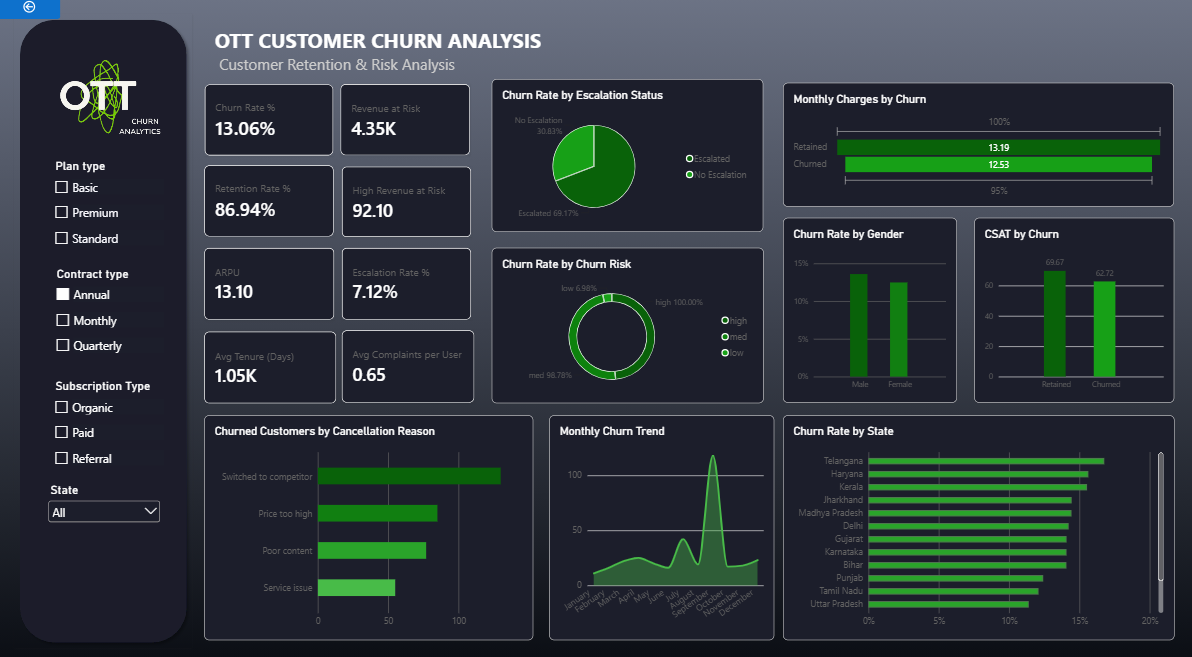

Layout of this report page (visuals, bound fields, positions):
{"tool":"powerbi","page":{"name":"Page 1","canvas":[1920,1080],"ordinal":0},"visuals":[{"type":"shape","box":[26.7,31.7,285,1015],"z":0},{"type":"cardVisual","fields":{"Data":["db_customer.Churn Rate %"]},"box":[330,144,207.5,115],"z":2000},{"type":"cardVisual","fields":{"Data":["db_customer.Avg Tenure (Days)"]},"box":[330,540,211.4,115.7],"z":3000},{"type":"cardVisual","fields":{"Data":["db_customer.ARPU"]},"box":[330,406,208.6,115.7],"z":4000},{"type":"cardVisual","fields":{"Data":["db_customer.Escalation Rate %"]},"box":[550,405.6,207.8,115.6],"z":5000},{"type":"cardVisual","fields":{"Data":["db_customer.Revenue at Risk"]},"box":[548.9,144.4,207.8,114.4],"z":6000},{"type":"cardVisual","title":"High Risk Revenue","fields":{"Data":["db_customer.High Risk Revenue at Risk"]},"box":[550,275.6,207.8,113.3],"z":7000},{"type":"cardVisual","fields":{"Data":["db_customer.Retention Rate %"]},"box":[330,274,207.8,114.4],"z":8000},{"type":"cardVisual","fields":{"Data":["db_customer.Avg Complaints per User"]},"box":[550,538.9,212.2,116.7],"z":9000},{"type":"clusteredBarChart","title":"Churn Rate by State","fields":{"Category":["db_customer.state"],"Y":["db_customer.Churn Rate %"]},"box":[1256,674,626,360],"z":12000},{"type":"clusteredBarChart","title":"Churned Customers by Cancellation Reason","fields":{"Category":["db_subscription.cancellation_reason"],"Y":["Sum(db_subscription.Churn Flag)"]},"box":[330,674,526,360],"z":13000},{"type":"clusteredColumnChart","title":"Churn Rate by Gender","fields":{"Category":["db_customer.gender"],"Y":["db_customer.Churn Rate %"]},"box":[1256,358,278,296],"z":14000},{"type":"funnel","title":"Monthly Charges by Churn","fields":{"Category":["db_subscription.Churn Status"],"Y":["Avg(db_subscription.monthly_charges)"]},"box":[1256.5,142.2,625.5,198.8],"z":15000},{"type":"clusteredColumnChart","title":"CSAT by Churn","fields":{"Category":["db_subscription.Churn Status"],"Y":["Avg(db_support.csat_score)"]},"box":[1562,358,320,296],"z":16000},{"type":"pieChart","title":"Churn Rate by Escalation Status","fields":{"Category":["db_support.Escalation Status"],"Y":["Avg(db_support.Customer Churn Flag)"]},"box":[790,136.7,434.4,244.4],"z":17000},{"type":"actionButton","box":[0,0,100,40],"z":18000},{"type":"donutChart","title":"Churn Rate by Churn Risk","fields":{"Category":["db_subscription.Churn Risk"],"Y":["db_customer.Churn Rate %"]},"box":[790,405.6,435.6,248.9],"z":19000},{"type":"areaChart","title":"Monthly Churn Trend","fields":{"Category":["db_subscription.cancellation_date.Variation.Date Hierarchy.Month"],"Y":["Sum(db_subscription.Churn Flag)"]},"box":[882,674,360,360],"z":20000},{"type":"textbox","box":[346,52,524,80],"z":21000},{"type":"textbox","box":[353.3,95,436.7,93.3],"z":22000},{"type":"slicer","fields":{"Values":["db_subscription.plan_type"]},"box":[83.3,263.3,181.7,148.3],"z":23000},{"type":"slicer","fields":{"Values":["db_subscription.contract_type"]},"box":[85,436.7,180,150],"z":24000},{"type":"slicer","fields":{"Values":["db_customer.state"]},"box":[76.7,781.7,188.3,150],"z":25000},{"type":"slicer","fields":{"Values":["db_subscription.Subscription Type Clean"]},"box":[83.3,615,181.7,150],"z":26000},{"type":"image","box":[16.7,20,295,288.3],"z":27000}]}

Visuals, with their boxes in screenshot pixels (x1, y1, x2, y2):
shape: box=[17, 14, 194, 646]
cardVisual - db_customer.Churn Rate %: box=[206, 84, 335, 155]
cardVisual - db_customer.Avg Tenure (Days): box=[206, 330, 337, 402]
cardVisual - db_customer.ARPU: box=[206, 247, 336, 319]
cardVisual - db_customer.Escalation Rate %: box=[343, 246, 472, 318]
cardVisual - db_customer.Revenue at Risk: box=[342, 84, 471, 155]
"High Risk Revenue" cardVisual: box=[343, 165, 472, 236]
cardVisual - db_customer.Retention Rate %: box=[206, 164, 335, 236]
cardVisual - db_customer.Avg Complaints per User: box=[343, 330, 475, 402]
"Churn Rate by State" clusteredBarChart: box=[782, 414, 1172, 638]
"Churned Customers by Cancellation Reason" clusteredBarChart: box=[206, 414, 533, 638]
"Churn Rate by Gender" clusteredColumnChart: box=[782, 217, 956, 401]
"Monthly Charges by Churn" funnel: box=[783, 82, 1172, 206]
"CSAT by Churn" clusteredColumnChart: box=[973, 217, 1172, 401]
"Churn Rate by Escalation Status" pieChart: box=[492, 79, 763, 231]
actionButton: box=[0, 0, 62, 19]
"Churn Rate by Churn Risk" donutChart: box=[492, 246, 764, 402]
"Monthly Churn Trend" areaChart: box=[549, 414, 774, 638]
textbox: box=[216, 26, 542, 76]
textbox: box=[220, 53, 492, 111]
slicer - db_subscription.plan_type: box=[52, 158, 165, 250]
slicer - db_subscription.contract_type: box=[53, 266, 165, 359]
slicer - db_customer.state: box=[48, 481, 165, 574]
slicer - db_subscription.Subscription Type Clean: box=[52, 377, 165, 470]
image: box=[10, 6, 194, 186]
